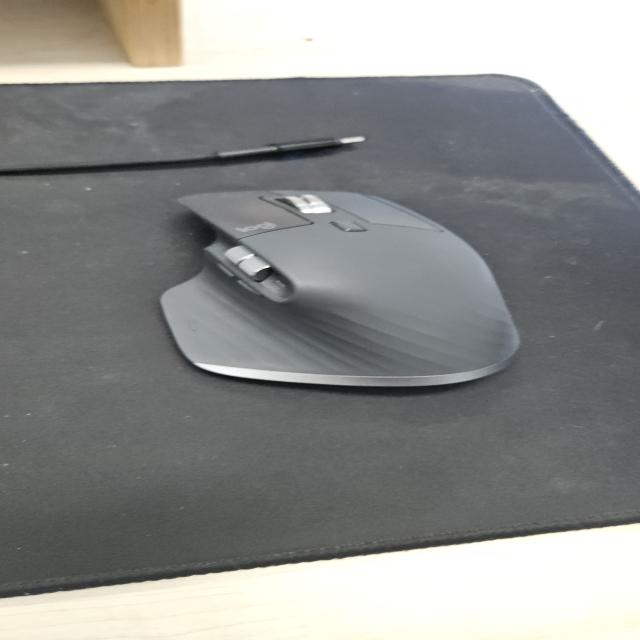Mouse: (156, 186, 524, 388)
